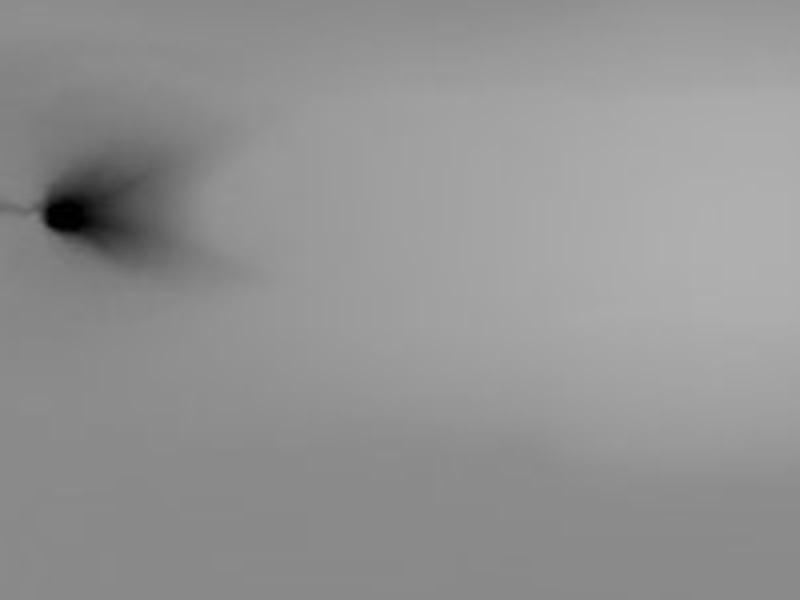defect: (39, 187, 106, 233)
